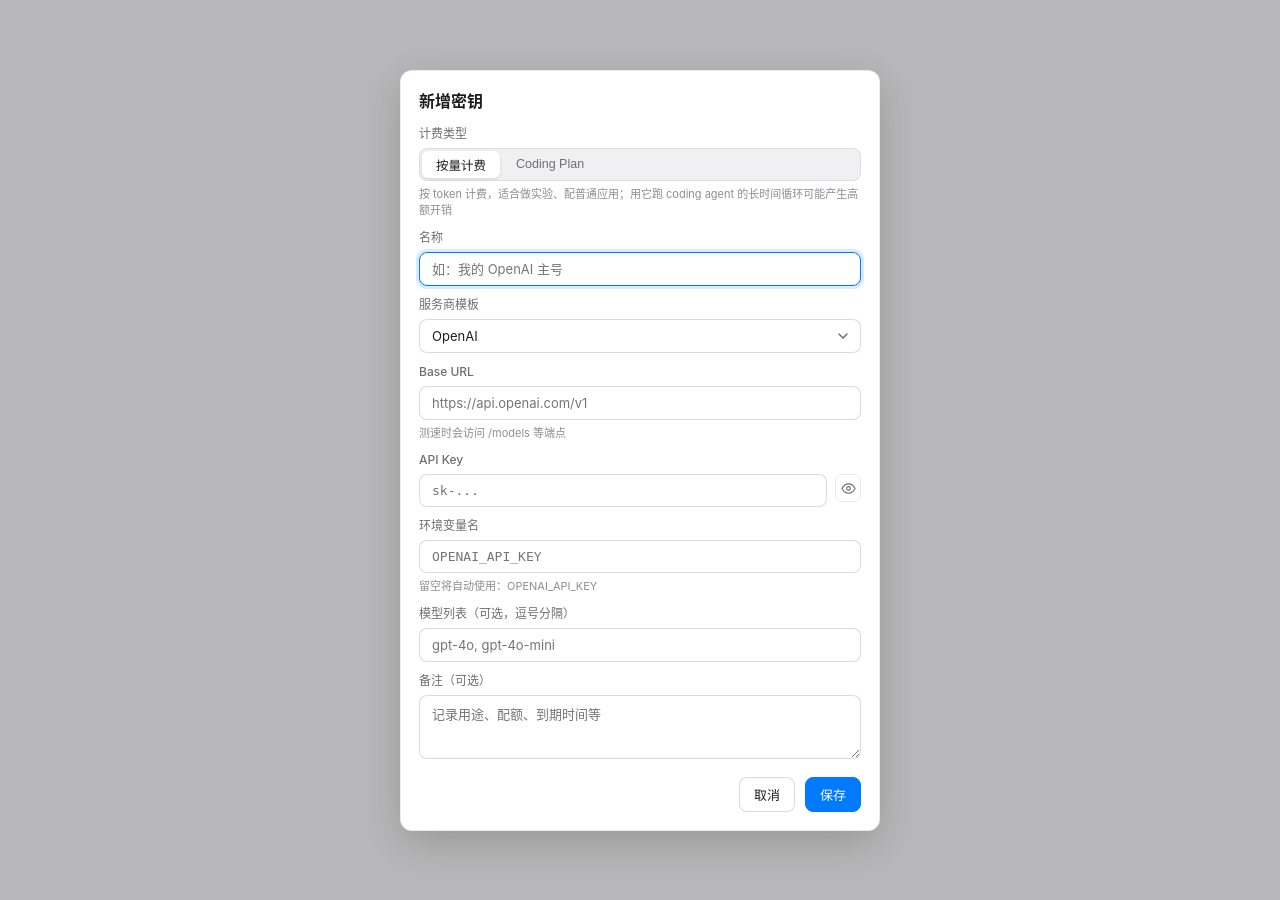
Test case: KeyFormModal › 填写 Base URL 后显示名称建议
The width and height of the screenshot is (1280, 900).
Type "https://api.deepseek.com" into the field with placeholder "https://api.openai.com/v1" at point(640, 402), box left=419, top=386, right=861, bottom=420
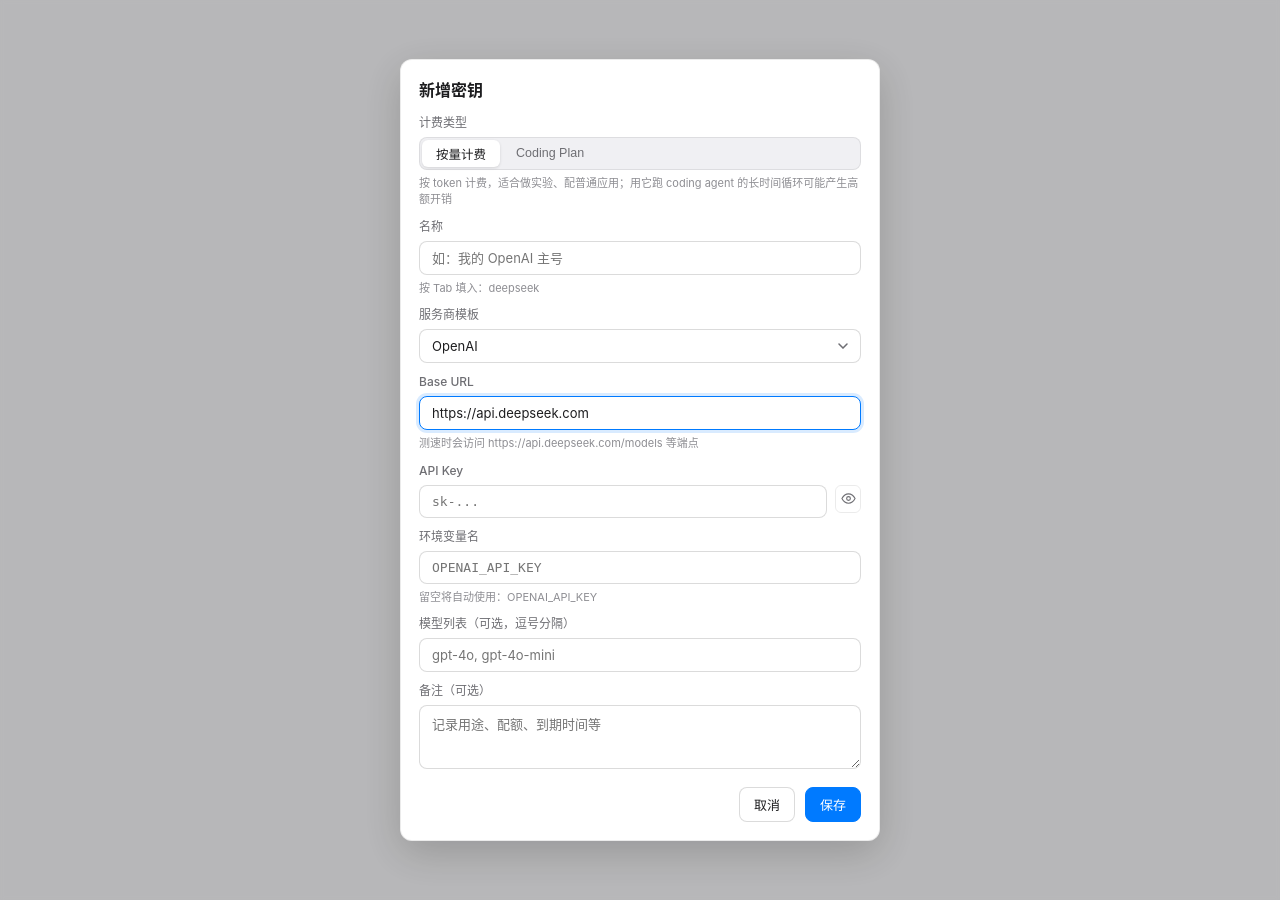
Now the text "按 Tab 填入：deepseek" is shown, box left=419, top=281, right=539, bottom=295
